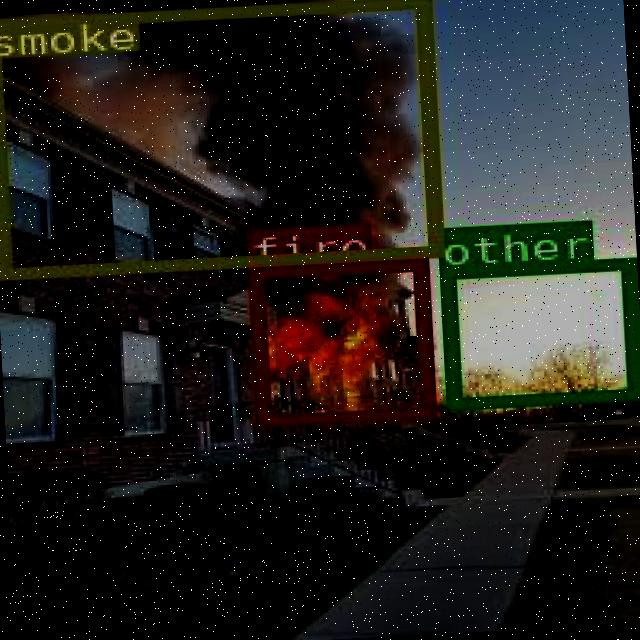fire: (246, 258, 432, 424)
smoke: (0, 0, 441, 279)
